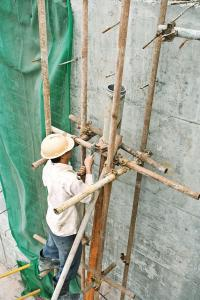helmet: (35, 127, 81, 173)
